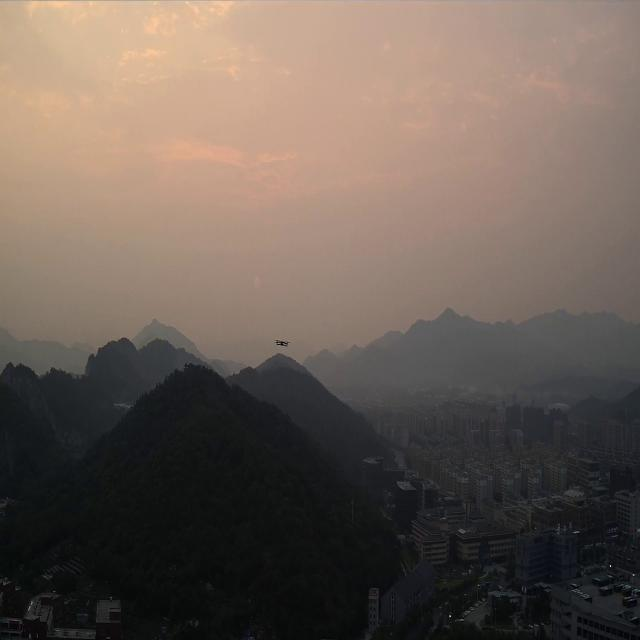UAV: (274, 339, 290, 347)
